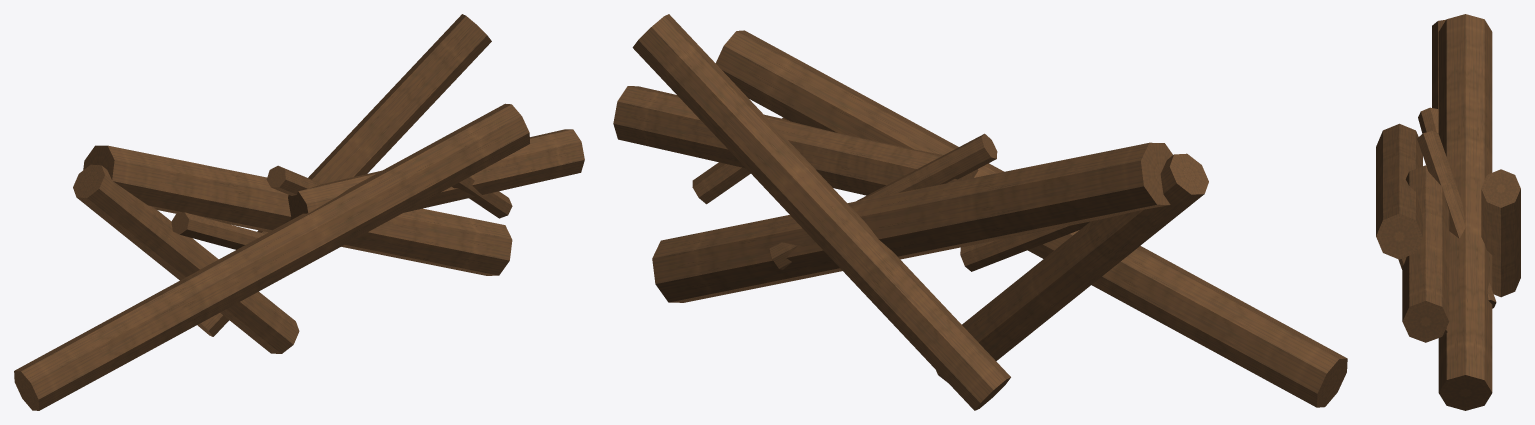
The model's file is en-006_driftwood_cluster__medium.obj.
3 views of the same model, side by side, from view 1: azimuth 30°, elevation 25°; view 2: azimuth 150°, elevation 25°; view 3: azimuth 270°, elevation 25° (orthographic). The views are drawn at different scales.
Visible parts, largest first — view 1: en-006_driftwood_cluster__medium; view 2: en-006_driftwood_cluster__medium; view 3: en-006_driftwood_cluster__medium.
Boxes of the visible parts, x1=… form: en-006_driftwood_cluster__medium: x1=14, y1=14, x2=584, y2=410; en-006_driftwood_cluster__medium: x1=613, y1=14, x2=1347, y2=410; en-006_driftwood_cluster__medium: x1=1376, y1=14, x2=1520, y2=410.
Size of the model in its own units: 1.44 by 0.6458 by 0.3281.
Materials: 1 (1 with a texture image).
